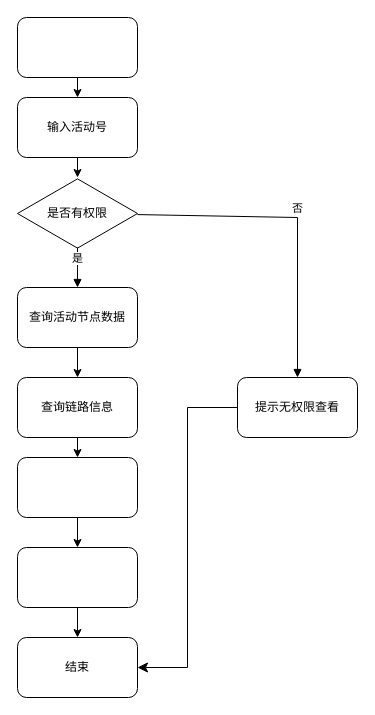
Image size: 375x715. Some labels were removed from this diagram. The centre of each missing label's shape, as x and y in pixels:
"开始" belongs at (x=77, y=47).
"数据展示" belongs at (x=77, y=577).
"组装拓扑图数据" belongs at (x=77, y=487).
